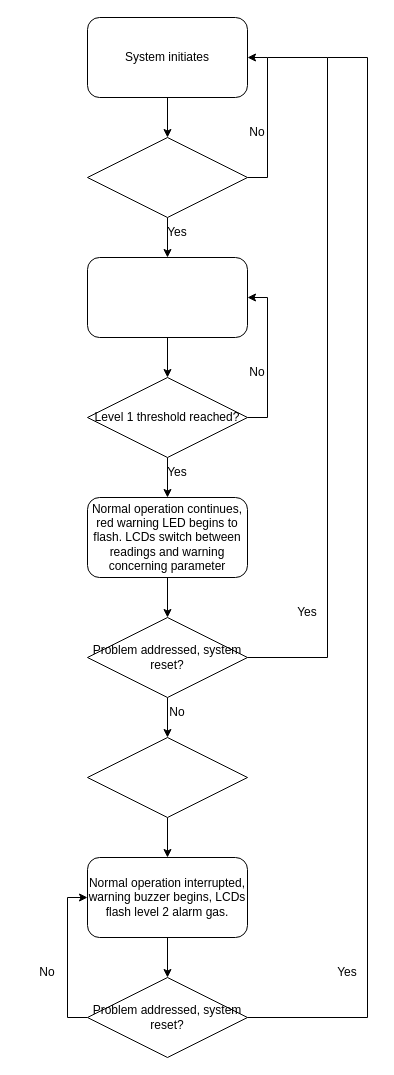
Image size: 394x1075. Some labels were removed from this diagram. Each missing label, with the centre of its shape:
Begin measuring, displaying and recording readings: pixel 167 297
Initiation successful?: pixel 167 177
Problem gets worse, level 2 threshold reached?: pixel 167 777
